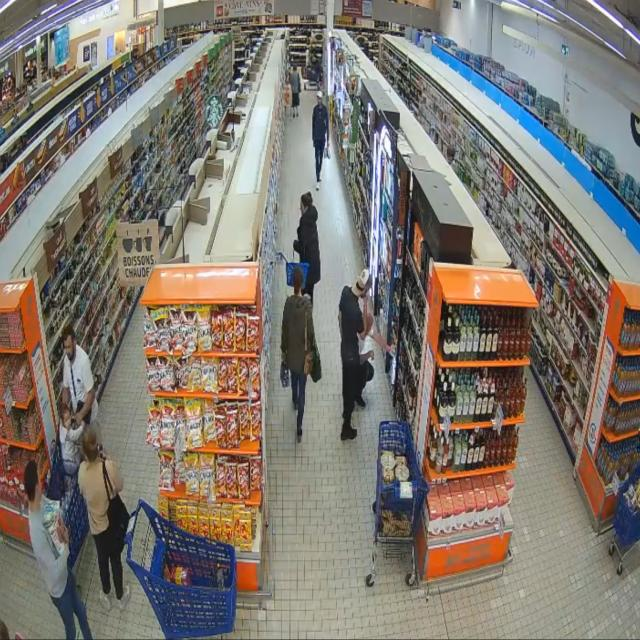article: (43, 513, 66, 560), (55, 513, 65, 541), (280, 362, 289, 388), (44, 500, 56, 516), (389, 349, 395, 357), (328, 149, 331, 159), (324, 149, 326, 159)
bags: (103, 462, 129, 552), (70, 363, 83, 413), (304, 316, 313, 375), (311, 341, 321, 382)
hands: (73, 414, 84, 427), (385, 345, 395, 357), (62, 525, 68, 543), (367, 350, 374, 360), (363, 295, 368, 308)
person: (24, 462, 92, 639), (79, 427, 130, 610), (281, 267, 314, 442), (338, 270, 370, 440), (62, 325, 98, 424), (294, 192, 320, 304), (59, 406, 84, 475), (312, 91, 329, 189), (356, 336, 374, 408), (290, 66, 302, 117)
